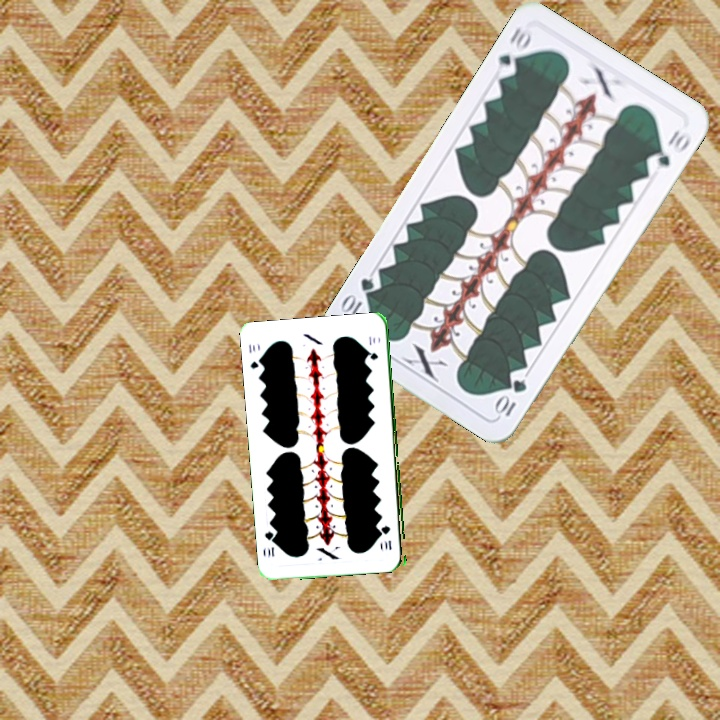G10: (492, 21, 534, 81), (491, 375, 530, 419), (245, 340, 265, 371), (379, 522, 394, 552)
